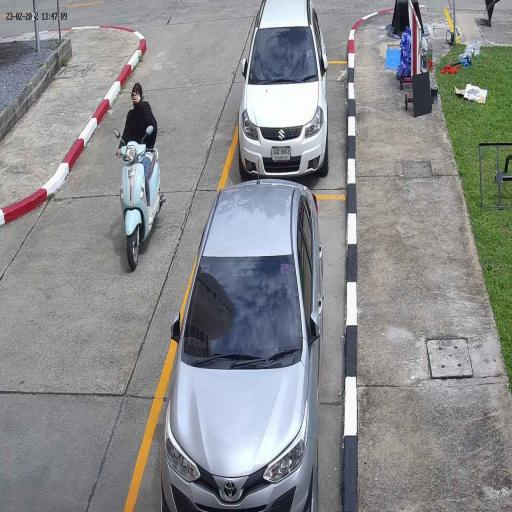car: (159, 177, 325, 512), (237, 0, 330, 180)
motorcycle: (121, 143, 165, 277)
